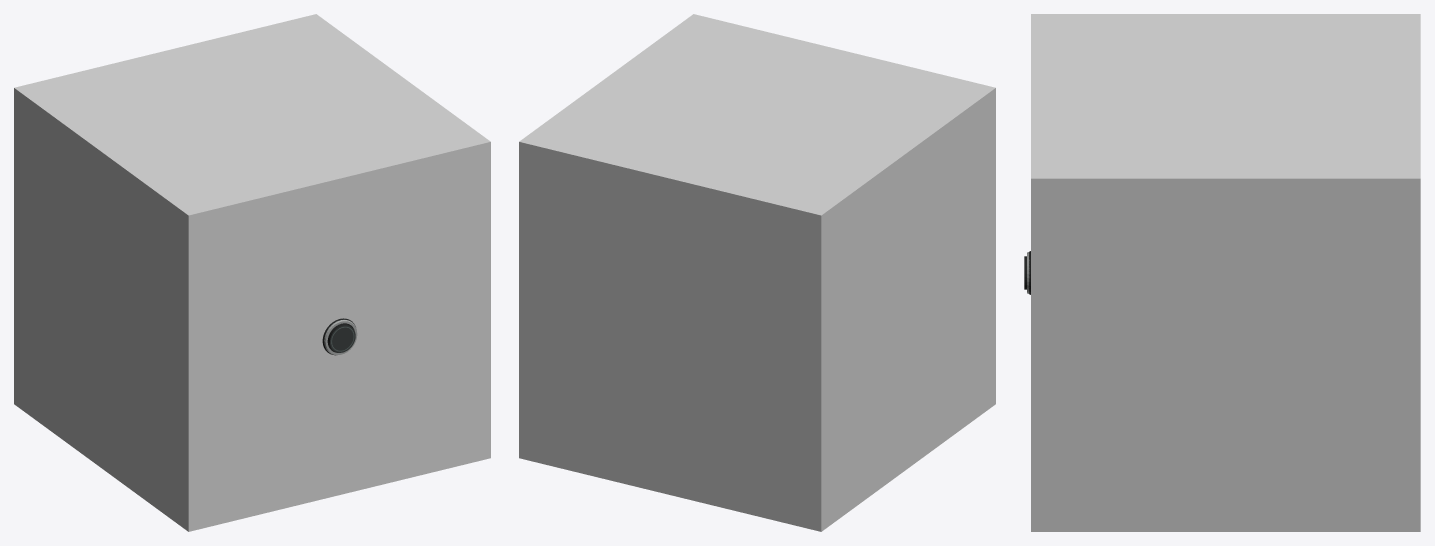
File: planet2.glb
3 views of the same model, side by side, from view 1: azimuth 30°, elevation 25°; view 2: azimuth 150°, elevation 25°; view 3: azimuth 270°, elevation 25° (orthographic). The views are drawn at different scales.
Visible parts, largest first — view 1: Cube, end_warp; view 2: Cube; view 3: Cube.
Boxes of the visible parts, x1=… form: Cube: x1=14, y1=14, x2=490, y2=531; end_warp: x1=322, y1=318, x2=357, y2=355; Cube: x1=519, y1=14, x2=995, y2=531; Cube: x1=1031, y1=14, x2=1420, y2=531.
Bounding box in the file's own units: 28 × 28 × 28.49.
Materials: 1 (1 with a texture image).
